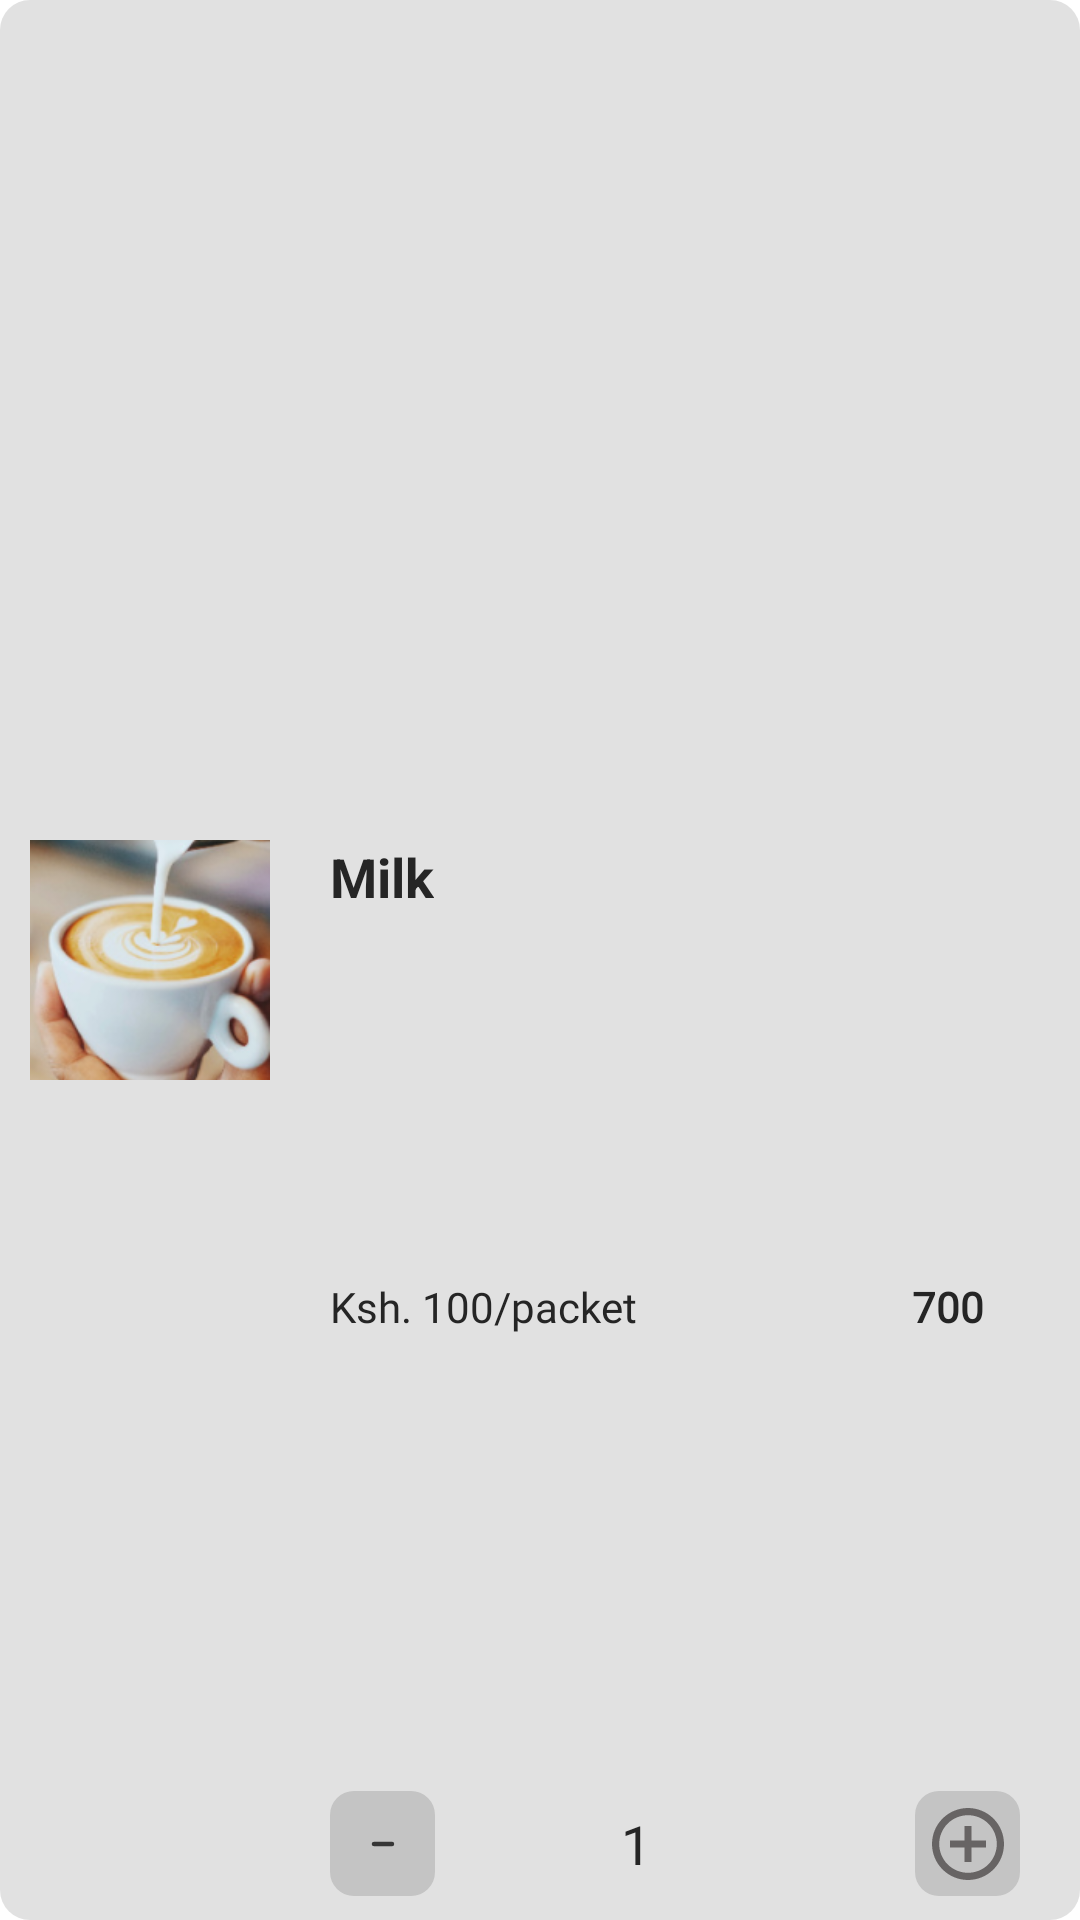

Where to tap for icons on this 1080*1920 app screen, as (x,y):
add sm: (967,1843)
reduce: (382,1843)
